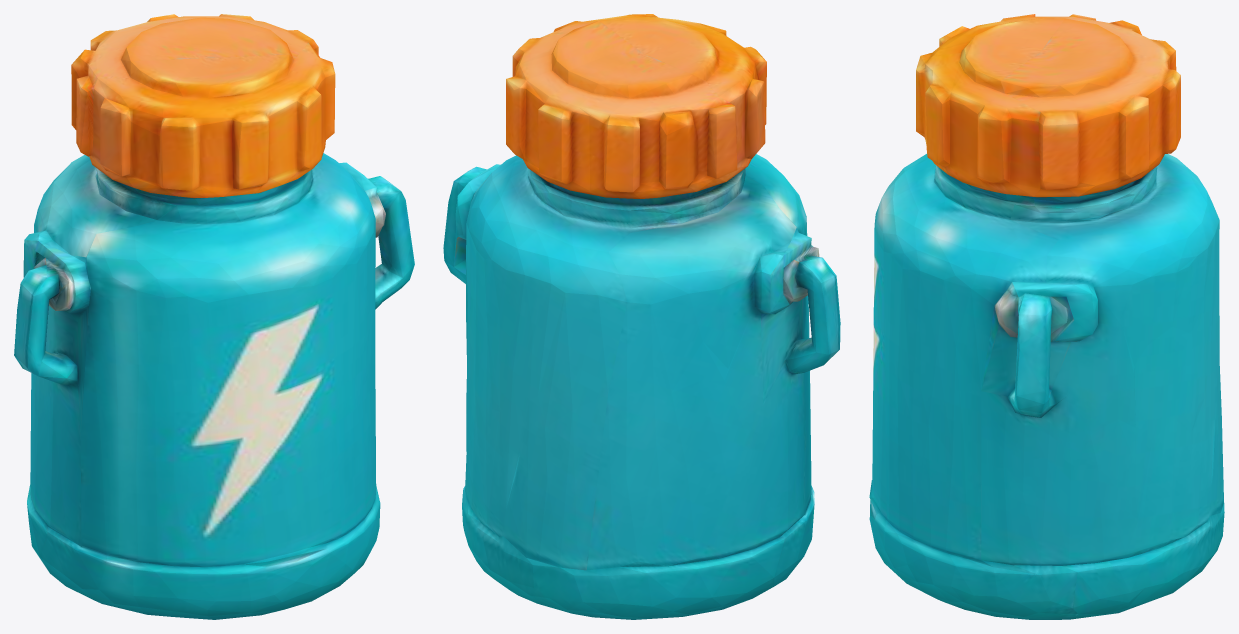
File: nitro.glb
The picture shows the model from 3 angles, left to right: view 1: azimuth 30°, elevation 25°; view 2: azimuth 150°, elevation 25°; view 3: azimuth 270°, elevation 25°; orthographic projection.
Visible parts, largest first — view 1: model; view 2: model; view 3: model.
Part boxes in pixels (x1,y1,x2,y2): model: (14,14,414,619); model: (443,14,840,619); model: (869,14,1224,619).
Size of the model in its own units: 0.8746 by 1.1 by 0.6926.
Materials: 1 (1 with a texture image).
